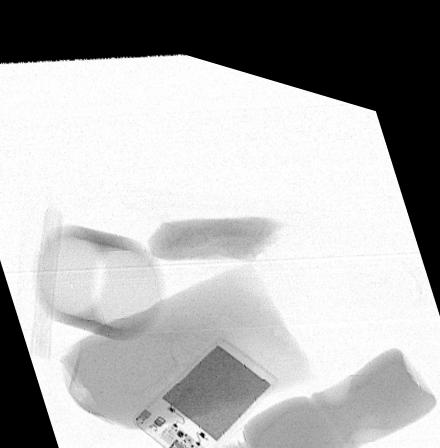Powerbank: (133, 325, 280, 448)
